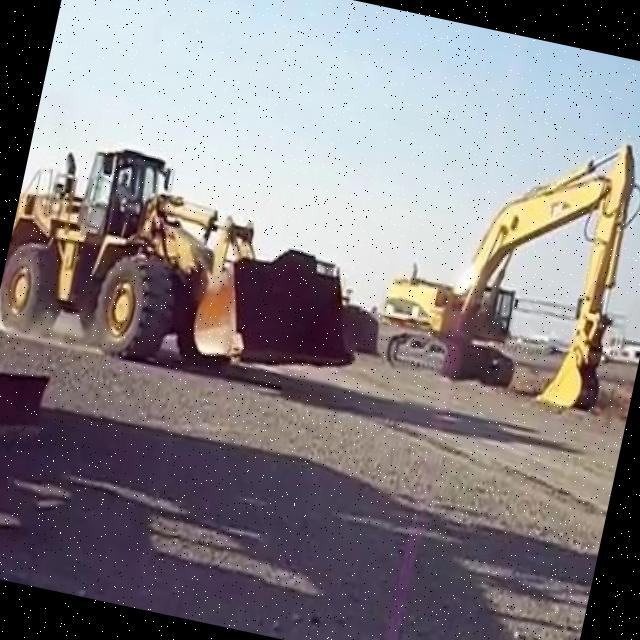Excavator: (367, 96, 640, 421)
Loader: (0, 118, 390, 401)
